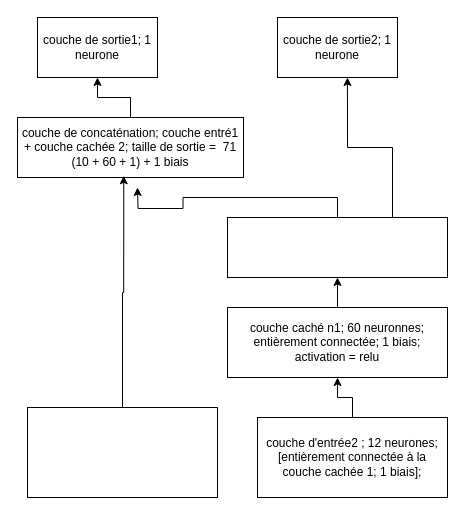
Some shapes in this 465 by 515 pixel diagram are drawn without their labels. Here are the shapes that lost their labels. From the top down, the centre of each, then its label:
At point 337,247: "couche caché n2; 60 neuronnes; entièrement connectée; 1 biais; activation = relu".
At point 122,452: "couche d'entrée1 ; 10 neurones; connecté à la couche de concatenation".
